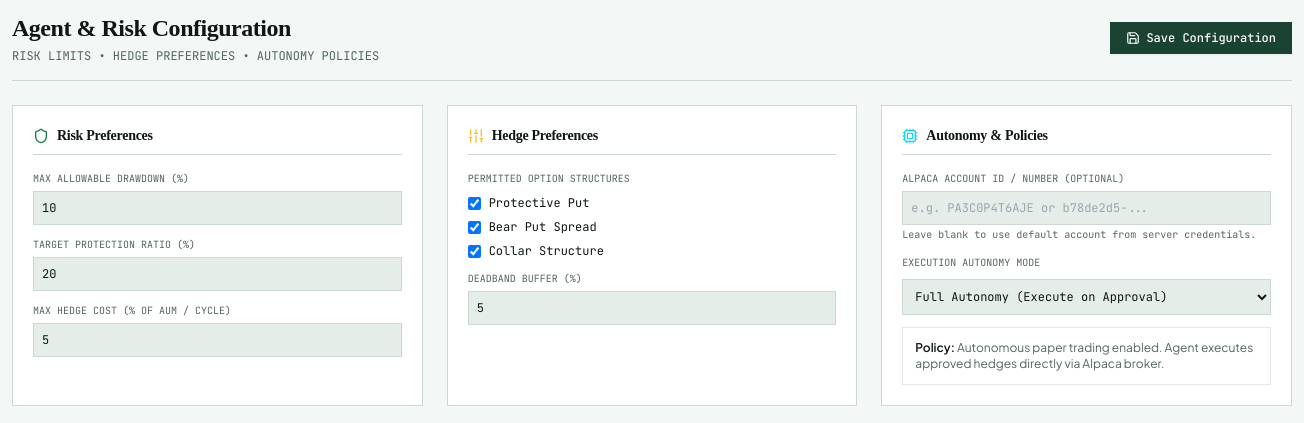
Test case: Configuration Page Component (P8-FE-4) › renders default configuration inputs and allows editing and saving to localStorage
The image size is (1304, 423).
Change drawdown tolerance to 15%
Step 1. Replace the text in the number field with test id "input-drawdown-tolerance" with "15" → (217, 208), box [33,191,402,225]
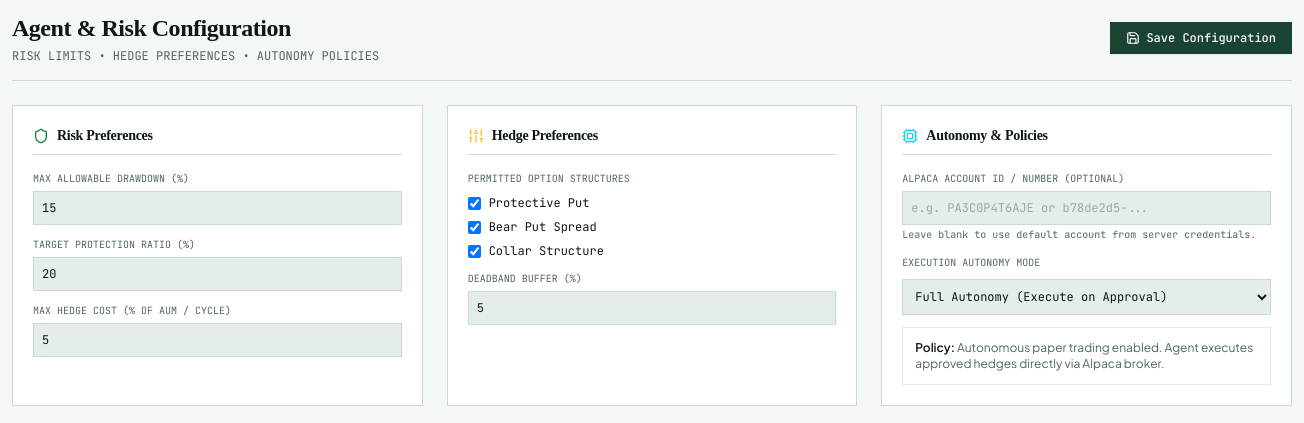
Step 2. Replace the text in the number field with test id "input-target-hedge" with "35" → (217, 274), box [33,257,402,291]
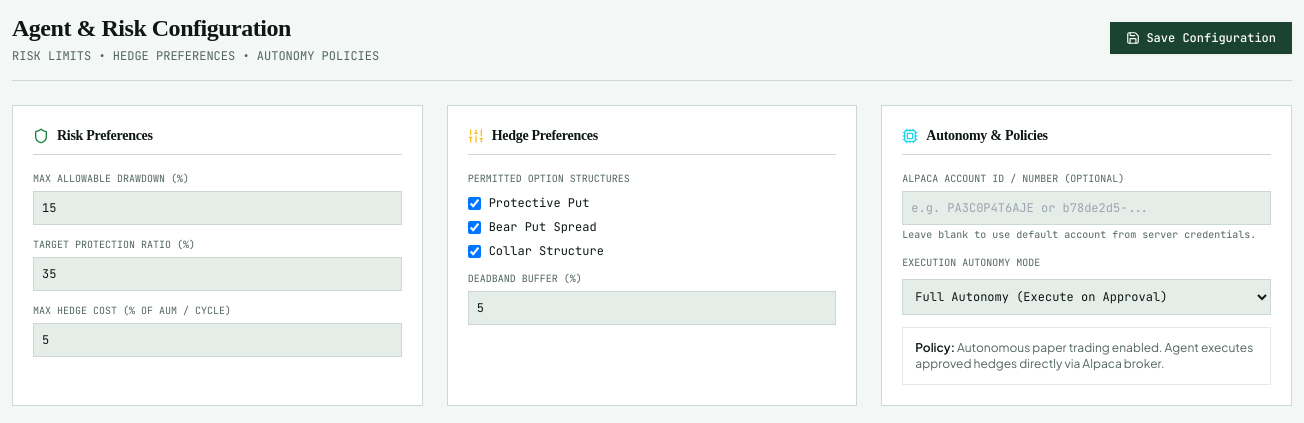
Step 3. Click the button with test id "save-config-btn" → (1201, 38), box [1110,22,1292,54]
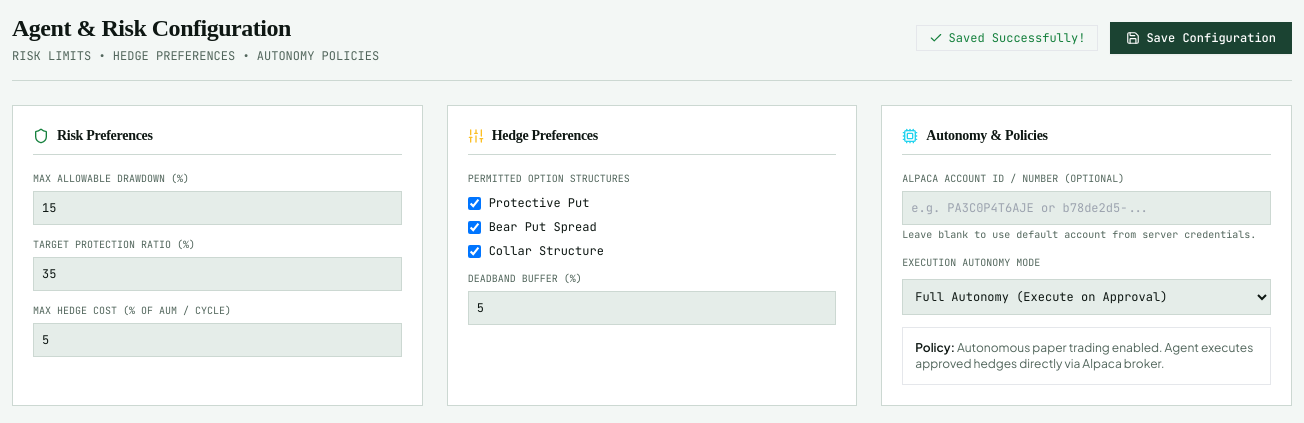
Expected: the element with test id "save-success-badge" shows "Saved Successfully", [949,30,1085,46]
